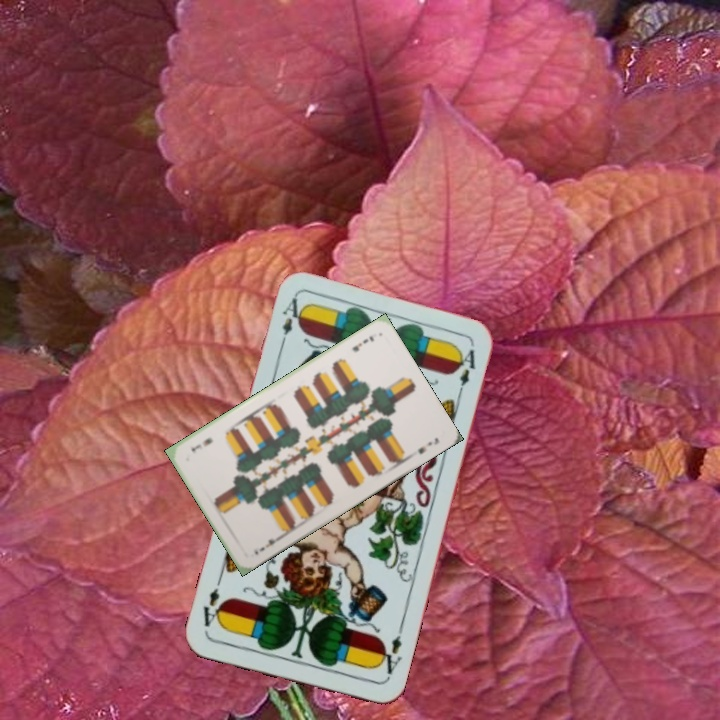E7: (249, 532, 284, 558), (348, 332, 377, 354)
EA: (373, 623, 406, 681), (276, 293, 307, 352)
